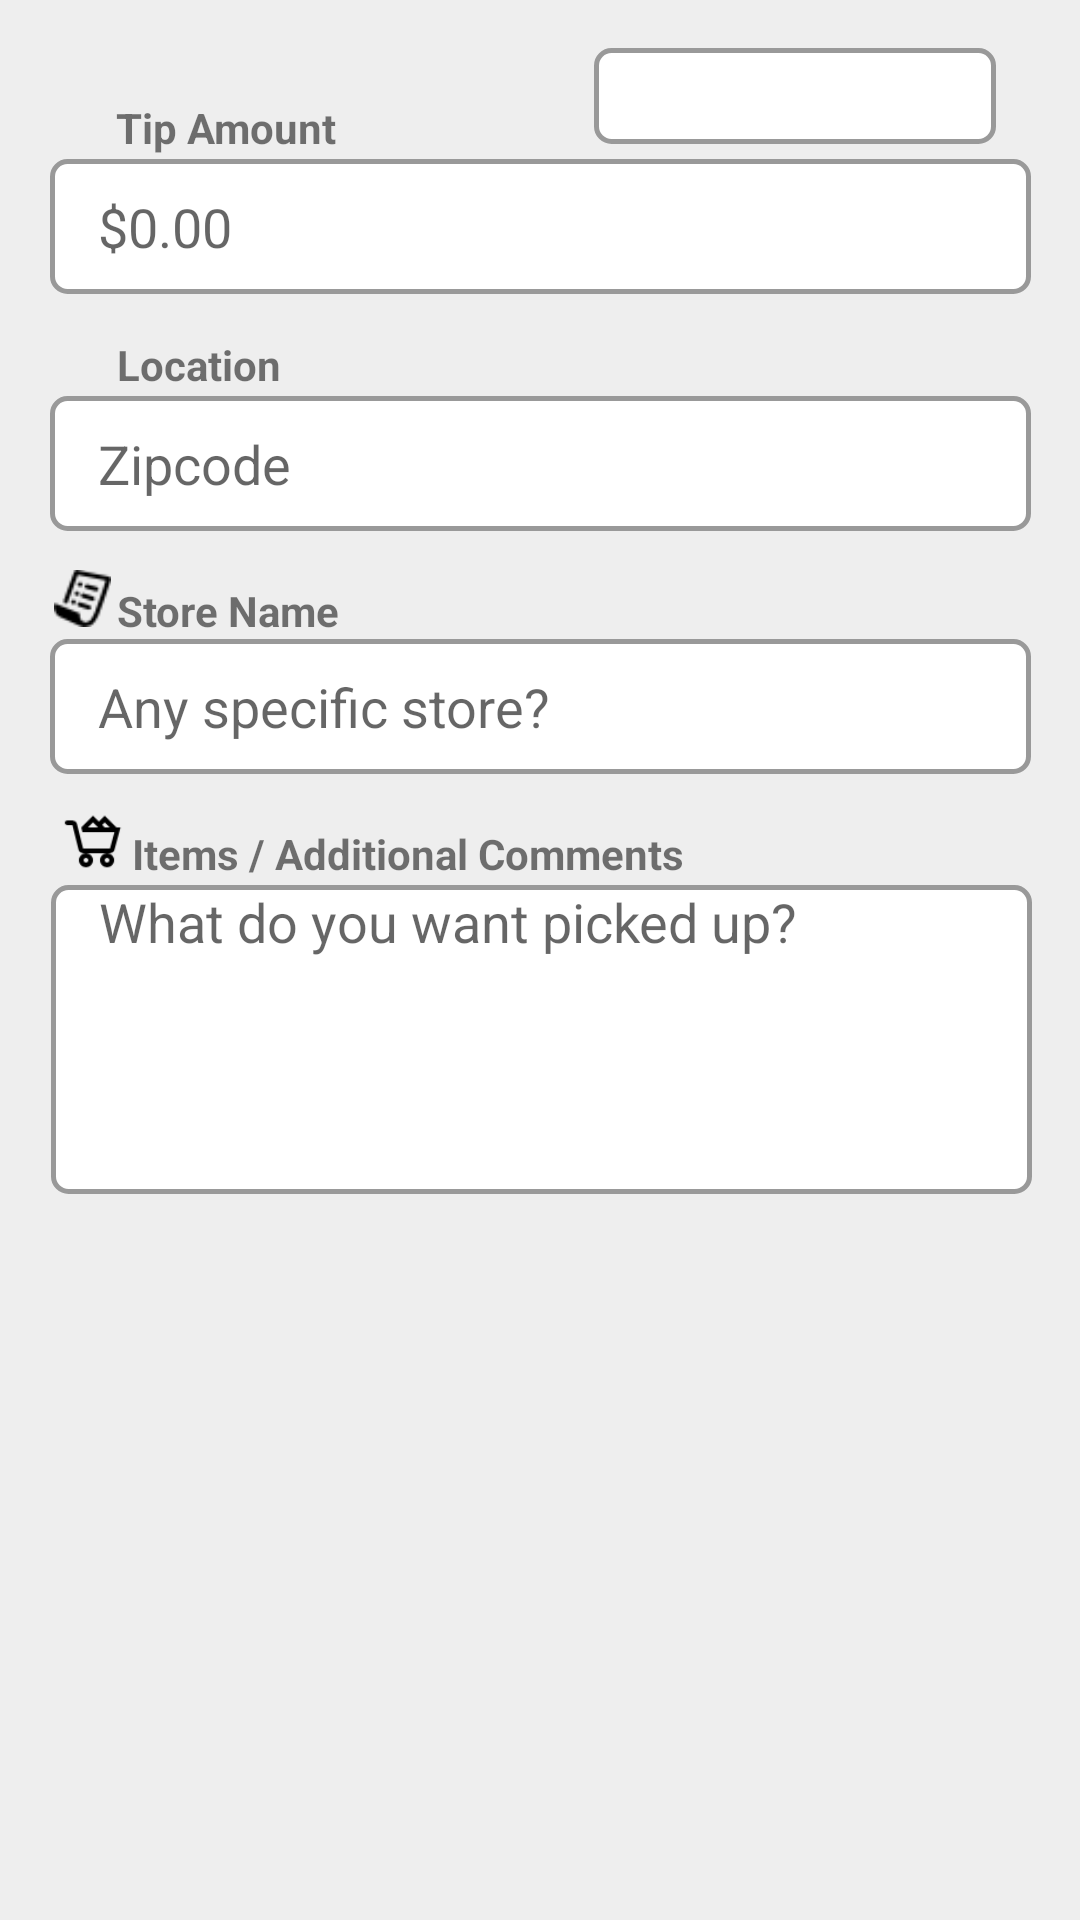

Point at icon controls on the screen. Image size 1080*1920, points as (x,y).
shoppingcart: (101,842)
